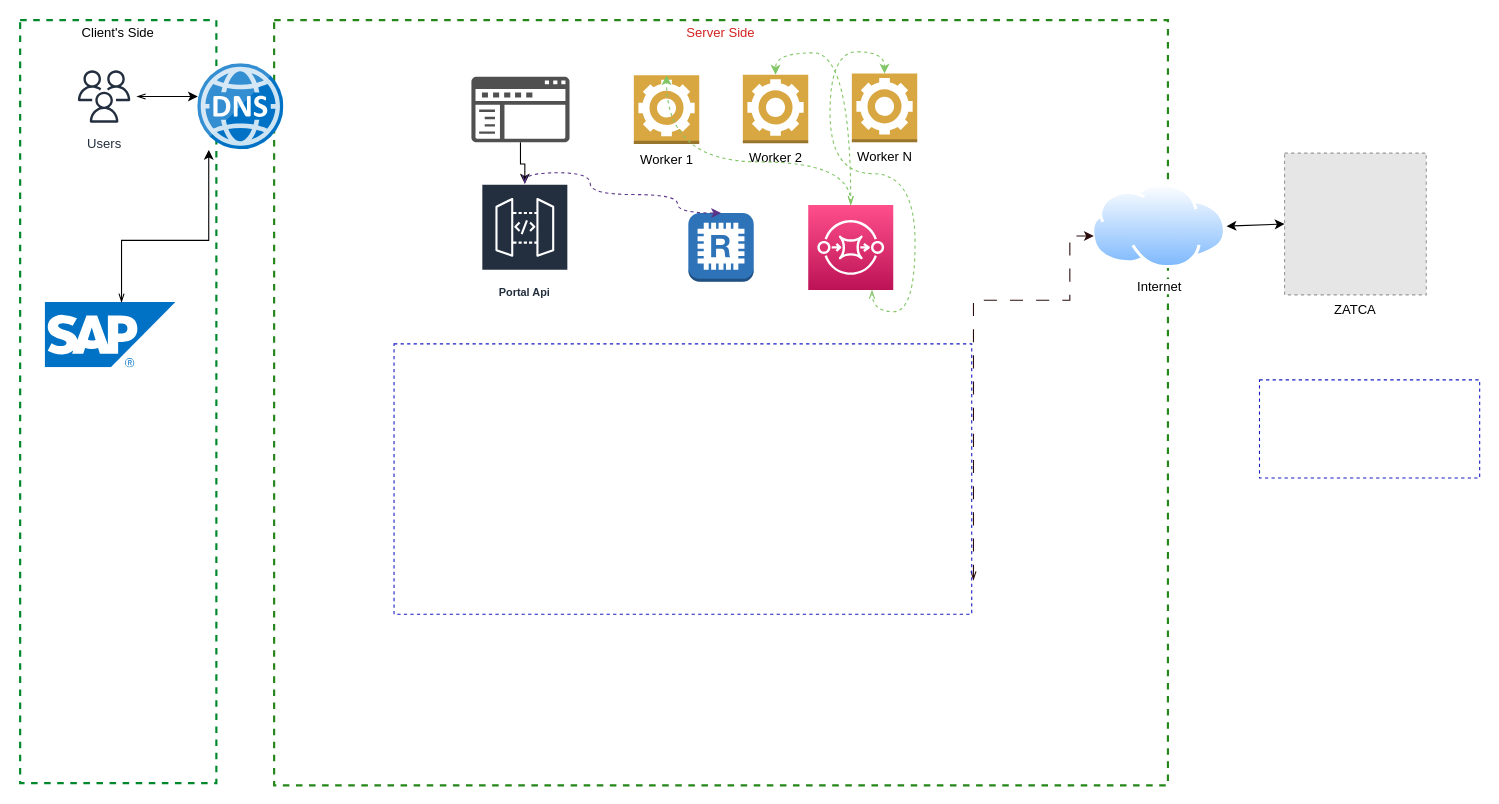
This 1499x804 diagram has some shape labels left out. Grey dashed boxes stand in for pictures. Each missing label, with the centre of its shape:
App Server: (x=682, y=478)
Ports Group A-8081, 8082, 8083, 8084, 8085,15672, 25672, 5672, 4369: (x=1369, y=428)
RabbitMQ Cluster: (x=850, y=247)
Vue Js Portal: (x=520, y=109)
